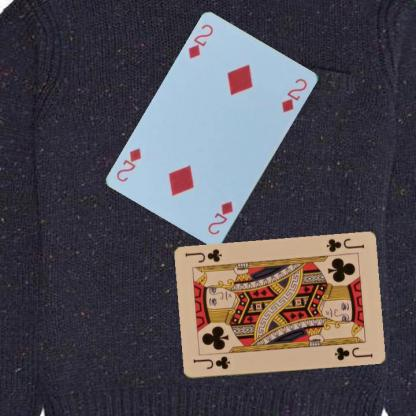2d: (205, 199, 235, 237), (185, 22, 215, 60)
Jc: (323, 236, 365, 254), (191, 354, 231, 371)
